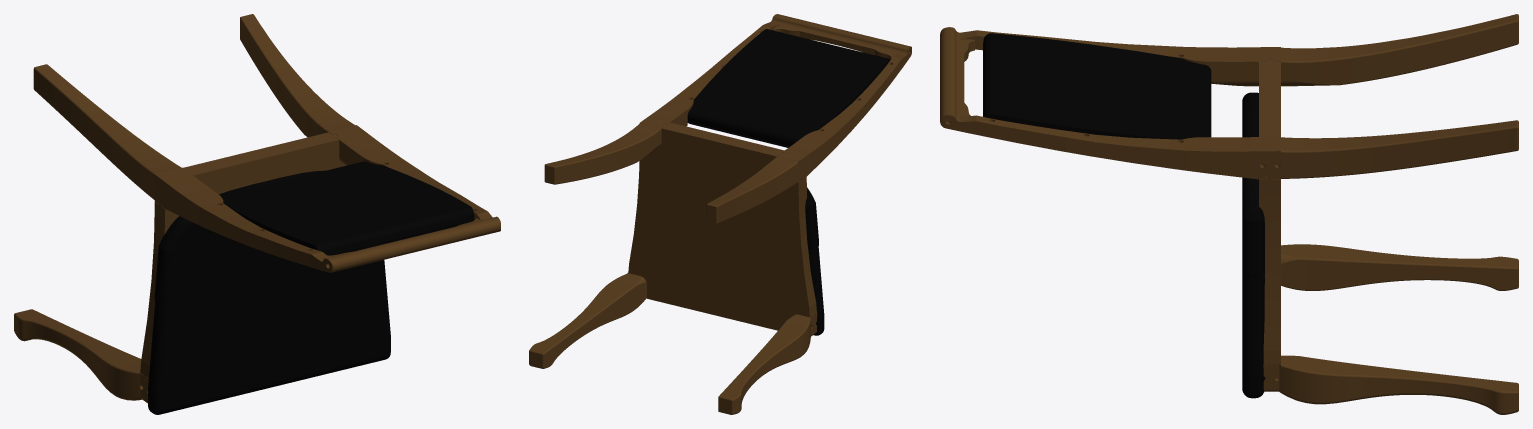
Rendered from Windsor Dining Chair.obj.
3 renders of one model, left to right at view 1: azimuth 30°, elevation 25°; view 2: azimuth 150°, elevation 25°; view 3: azimuth 270°, elevation 25°, orthographic. The views are drawn at different scales.
Parts seen in each view (by area): view 1: Body1:4, Body1:5, Body1, Body6, Body2 (1), Body1:3, Body1:1; view 2: Body2 (1), Body1:5, Body1, Body6, Body1:2, Body1:3, Body1:1, Body1:4; view 3: Body1:5, Body6, Body1, Body1:2, Body1:3, Body1:4, Body2 (1), Body1:1.
Boxes of the visible parts, x1,y1,x2,y2 form: Body1:4: (148, 170, 390, 414); Body1:5: (221, 161, 474, 255); Body1: (33, 64, 343, 272); Body6: (240, 14, 500, 233); Body2 (1): (140, 132, 344, 380); Body1:3: (14, 309, 148, 403); Body1:1: (327, 218, 490, 269); Body2 (1): (628, 122, 816, 330); Body1:5: (687, 29, 890, 147); Body1: (706, 44, 911, 224); Body6: (544, 14, 786, 184); Body1:2: (529, 273, 646, 368); Body1:3: (718, 312, 817, 414); Body1:1: (772, 16, 901, 59); Body1:4: (805, 187, 824, 335); Body1:5: (983, 33, 1211, 139); Body6: (940, 109, 1518, 179); Body1: (940, 14, 1518, 86); Body1:2: (1263, 355, 1518, 414); Body1:3: (1281, 244, 1518, 290); Body1:4: (1242, 92, 1264, 398); Body2 (1): (1259, 60, 1280, 367); Body1:1: (940, 33, 974, 116).
Bounding box in the file's own units: 53.72 × 51.32 × 96.79.
